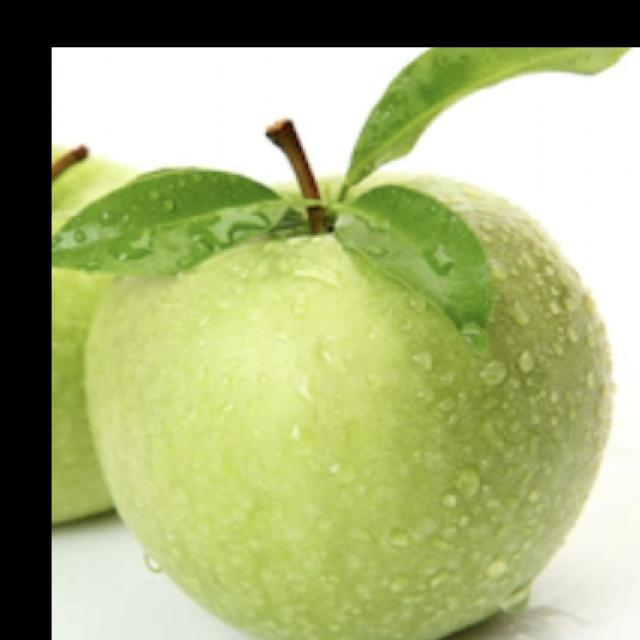Fresh Apple: (86, 178, 598, 640)
